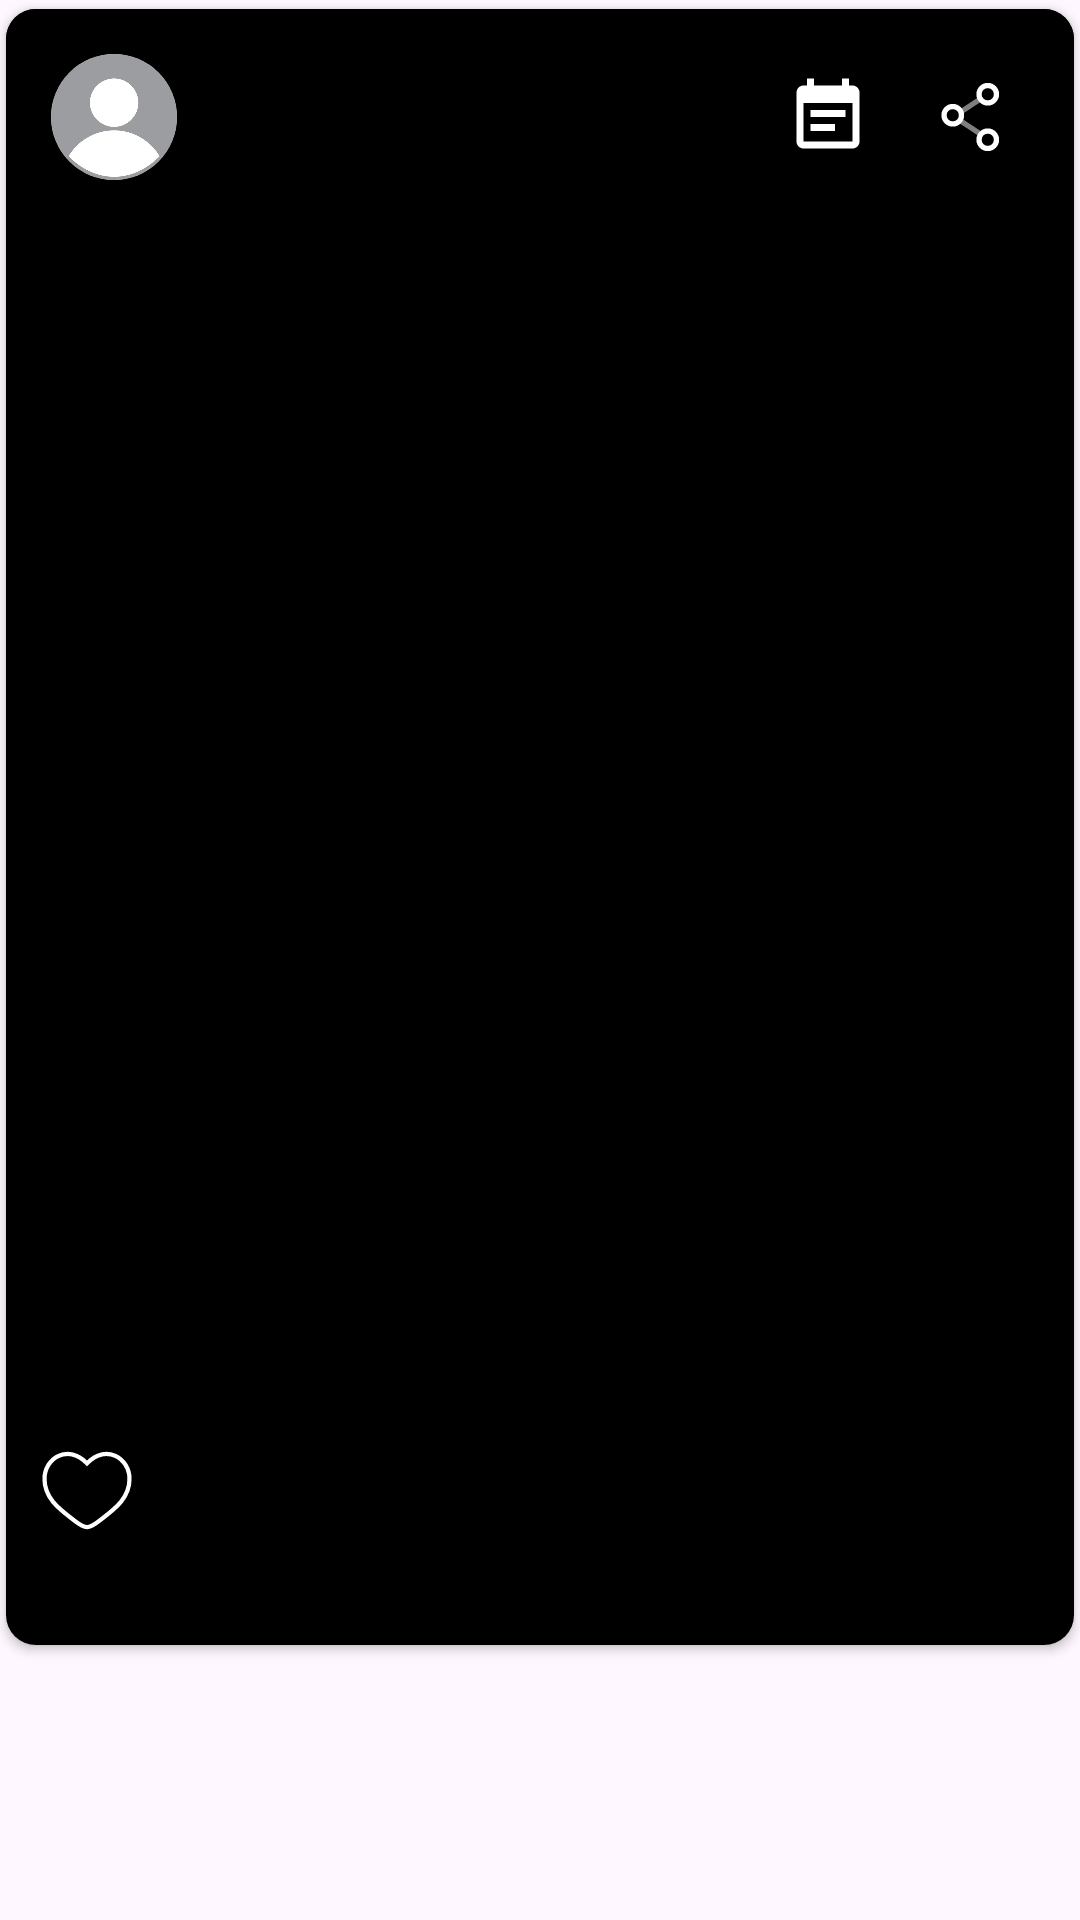

Screen size 1080×1920. Icon name, then its box in pixels as [x1,y1,x2,y2]:
event: [796,78,860,149]
share: [941,83,999,151]
user profile standard: [51,54,177,180]
